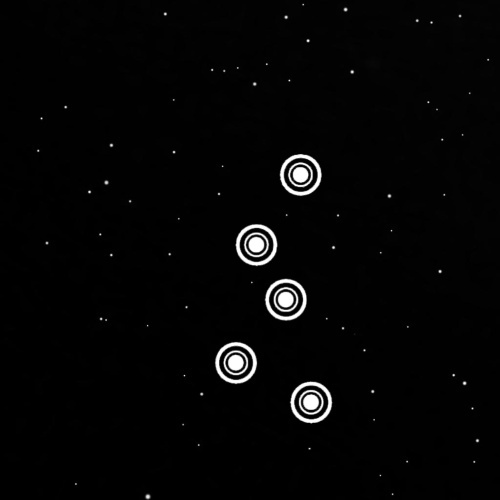cassiopeia: (197, 140, 348, 434)
